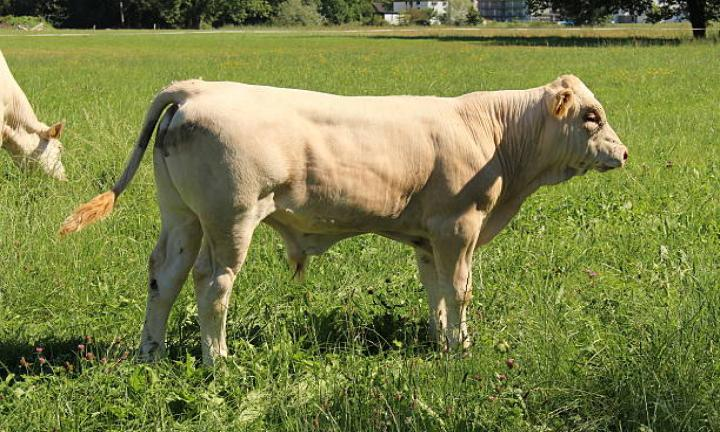Charolais: (61, 75, 626, 361)
